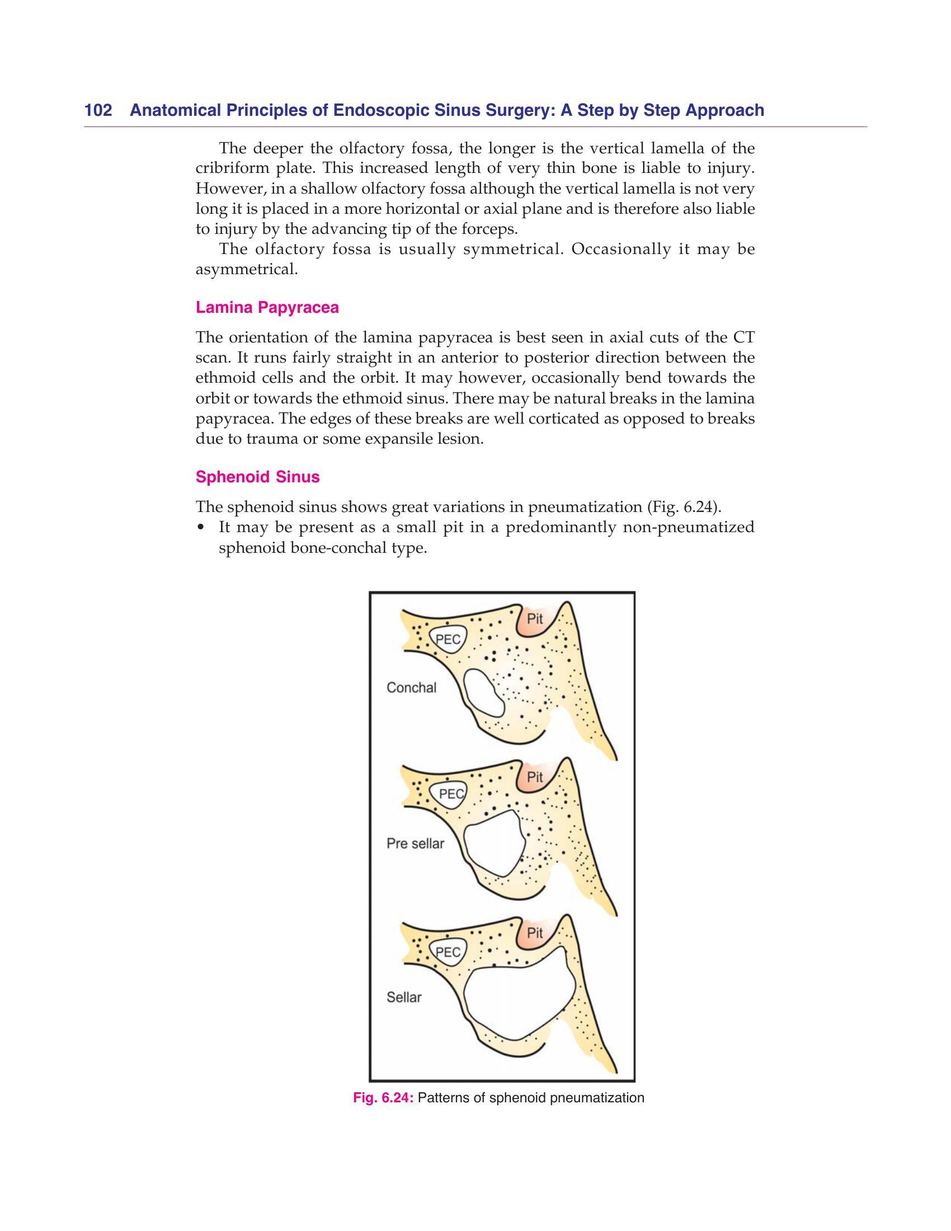caption: (352, 1089, 646, 1106)
header: (128, 100, 767, 123)
image: (368, 590, 637, 1083)
list: (196, 519, 757, 561)
sub-section-heading: (194, 298, 341, 319), (194, 468, 322, 488)
text: (193, 139, 759, 284), (192, 326, 758, 448), (194, 497, 723, 518)
